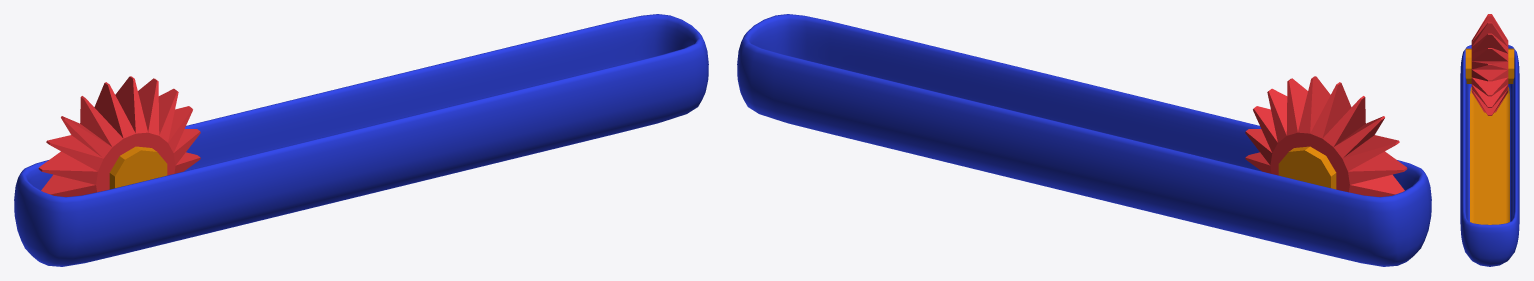
File: engel4.fbx
3 renders of one model, left to right at view 1: azimuth 30°, elevation 25°; view 2: azimuth 150°, elevation 25°; view 3: azimuth 270°, elevation 25°, orthographic. The views are drawn at different scales.
Visible parts, largest first — view 1: Cube.003, Cylinder.002; view 2: Cube.003, Cylinder.002; view 3: Cube.003, Cylinder.002.
Part boxes in pixels (x1,y1,x2,y2): Cube.003: (14, 14, 708, 266); Cylinder.002: (38, 76, 200, 196); Cube.003: (737, 14, 1431, 266); Cylinder.002: (1245, 76, 1407, 196); Cube.003: (1460, 45, 1519, 266); Cylinder.002: (1465, 14, 1514, 115).
Size of the model in its own units: 488 by 117 by 65.81.
